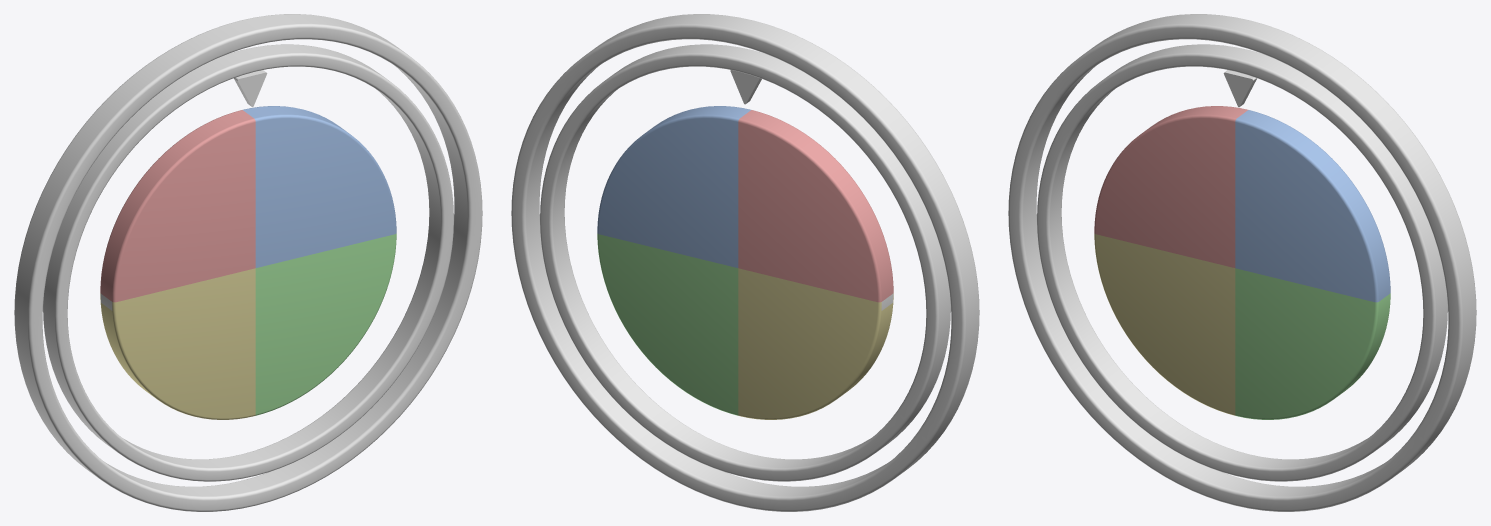
File: Cube_Home.glb
3 views of the same model, side by side, from view 1: azimuth 30°, elevation 25°; view 2: azimuth 150°, elevation 25°; view 3: azimuth 330°, elevation 25° (orthographic).
Visible parts, largest first — view 1: Tube (×2), Cylinder-Mat.3, Cylinder-Mat, Cylinder-Mat.2, Cylinder-Mat.1, Extrude; view 2: Tube (×2), Cylinder-Mat.3, Cylinder-Mat, Cylinder-Mat.2, Cylinder-Mat.1, Extrude; view 3: Tube (×2), Cylinder-Mat, Cylinder-Mat.1, Cylinder-Mat.3, Cylinder-Mat.2, Extrude.
Boxes of the visible parts, left/top/right/bottom form: Tube (×2): left=14, top=14, right=482, bottom=511; Cylinder-Mat.3: left=100, top=110, right=255, bottom=302; Cylinder-Mat: left=243, top=106, right=396, bottom=267; Cylinder-Mat.2: left=100, top=268, right=255, bottom=419; Cylinder-Mat.1: left=255, top=233, right=396, bottom=415; Extrude: left=234, top=70, right=267, bottom=106; Tube (×2): left=511, top=14, right=979, bottom=511; Cylinder-Mat.3: left=738, top=110, right=893, bottom=302; Cylinder-Mat: left=597, top=106, right=750, bottom=267; Cylinder-Mat.2: left=738, top=268, right=893, bottom=419; Cylinder-Mat.1: left=597, top=233, right=738, bottom=415; Extrude: left=730, top=70, right=761, bottom=104; Tube (×2): left=1008, top=14, right=1476, bottom=511; Cylinder-Mat: left=1235, top=110, right=1390, bottom=302; Cylinder-Mat.1: left=1235, top=268, right=1390, bottom=419; Cylinder-Mat.3: left=1094, top=106, right=1247, bottom=267; Cylinder-Mat.2: left=1094, top=233, right=1235, bottom=415; Extrude: left=1223, top=70, right=1256, bottom=107.
Bounding box in the file's own units: 18.22 × 18.22 × 1.14.
